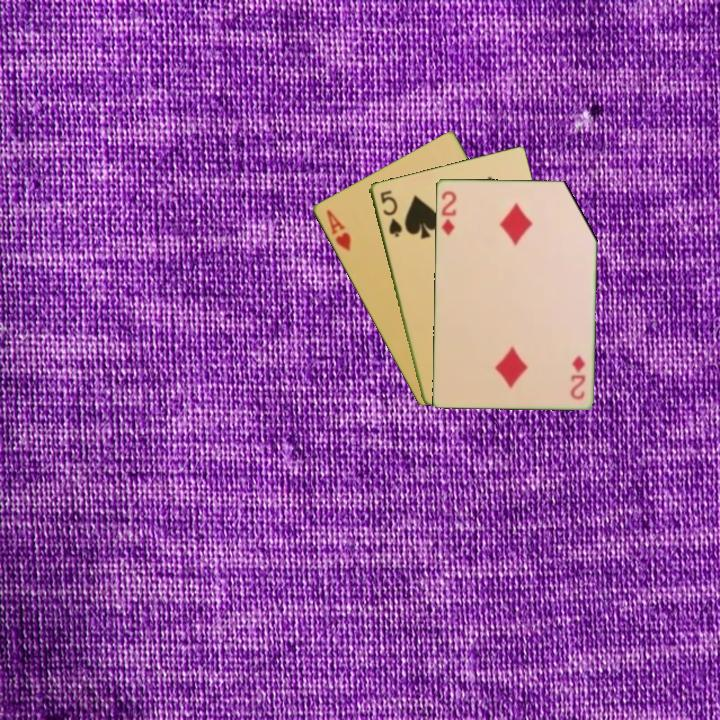2d: (438, 187, 459, 238), (567, 352, 588, 402)
5s: (376, 186, 405, 240)
Ah: (322, 206, 354, 254)
